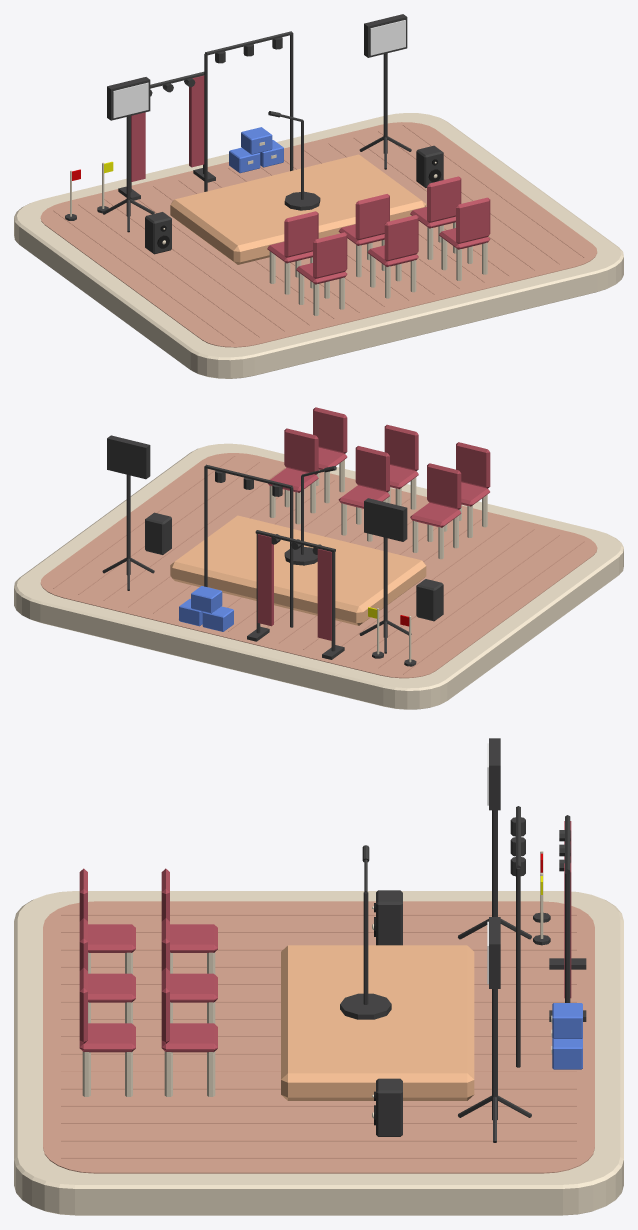
The model's file is room.fbx.
3 views of the same model, one above another, from view 1: azimuth 30°, elevation 25°; view 2: azimuth 150°, elevation 25°; view 3: azimuth 270°, elevation 25° (orthographic). The views are drawn at different scales.
Visible parts, largest first — view 1: COM-02 Floor Surface, COM-01 Rounded Base Direct, Low stage, Backrest.004, Backrest.003, Backrest.005, Backrest.001, Backrest, Backrest.002, Diffuser.001, Diffuser, Enclosure (+12 smaller); view 2: COM-02 Floor Surface, COM-01 Rounded Base Direct, Low stage, Light panel, Light panel.001, Backrest, Backrest.001, Backrest.002, Backrest.003, Backrest.005, Backrest.004, Enclosure (+19 smaller); view 3: COM-02 Floor Surface, COM-01 Rounded Base Direct, Low stage, Enclosure.001, Enclosure, Seat.005, Seat.002, Seat.001, Seat.004, Seat, Seat.003, Stacked case.002 (+14 smaller).
Boxes of the visible parts, <box> form: COM-02 Floor Surface: <box>40,122,597,347</box>; COM-01 Rounded Base Direct: <box>14,113,623,378</box>; Low stage: <box>170,154,426,264</box>; Backrest.004: <box>384,215,418,261</box>; Backrest.003: <box>313,232,347,278</box>; Backrest.005: <box>456,197,490,243</box>; Backrest.001: <box>355,194,389,240</box>; Backrest: <box>284,211,318,257</box>; Backrest.002: <box>427,176,461,222</box>; Diffuser.001: <box>370,20,405,55</box>; Diffuser: <box>113,82,148,118</box>; Enclosure: <box>145,212,171,254</box>; COM-02 Floor Surface: <box>40,453,597,678</box>; COM-01 Rounded Base Direct: <box>14,443,623,709</box>; Low stage: <box>170,515,426,625</box>; Light panel: <box>364,498,407,541</box>; Light panel.001: <box>107,435,150,479</box>; Backrest: <box>427,463,461,509</box>; Backrest.001: <box>355,446,389,492</box>; Backrest.002: <box>284,428,318,474</box>; Backrest.003: <box>456,442,490,488</box>; Backrest.005: <box>313,407,347,453</box>; Backrest.004: <box>384,424,418,471</box>; Enclosure: <box>416,579,443,621</box>; COM-02 Floor Surface: <box>43,901,594,1173</box>; COM-01 Rounded Base Direct: <box>14,891,623,1215</box>; Low stage: <box>281,945,474,1100</box>; Enclosure.001: <box>376,1078,402,1136</box>; Enclosure: <box>376,890,402,945</box>; Seat.005: <box>79,1023,135,1052</box>; Seat.002: <box>161,1023,217,1052</box>; Seat.001: <box>170,973,217,1002</box>; Seat.004: <box>88,973,135,1002</box>; Seat: <box>170,924,217,952</box>; Seat.003: <box>88,924,135,952</box>; Stacked case.002: <box>552,1003,582,1038</box>.
Size of the model in its own units: 600 by 219 by 520.
